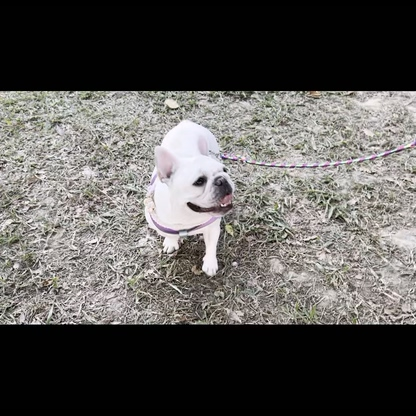bulldog: (143, 118, 240, 279)
